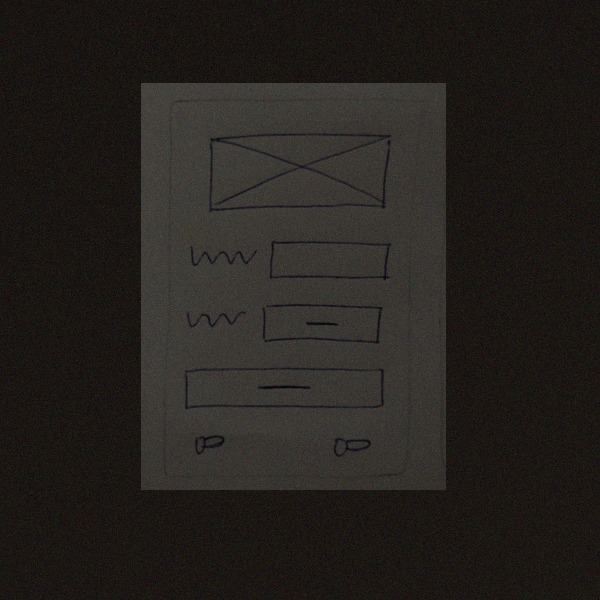button: (178, 364, 389, 413), (261, 302, 383, 350)
image: (206, 130, 395, 219)
switch: (190, 431, 231, 462), (332, 433, 373, 464)
text: (176, 301, 258, 336), (181, 241, 263, 275)
text_input: (266, 236, 398, 286)
